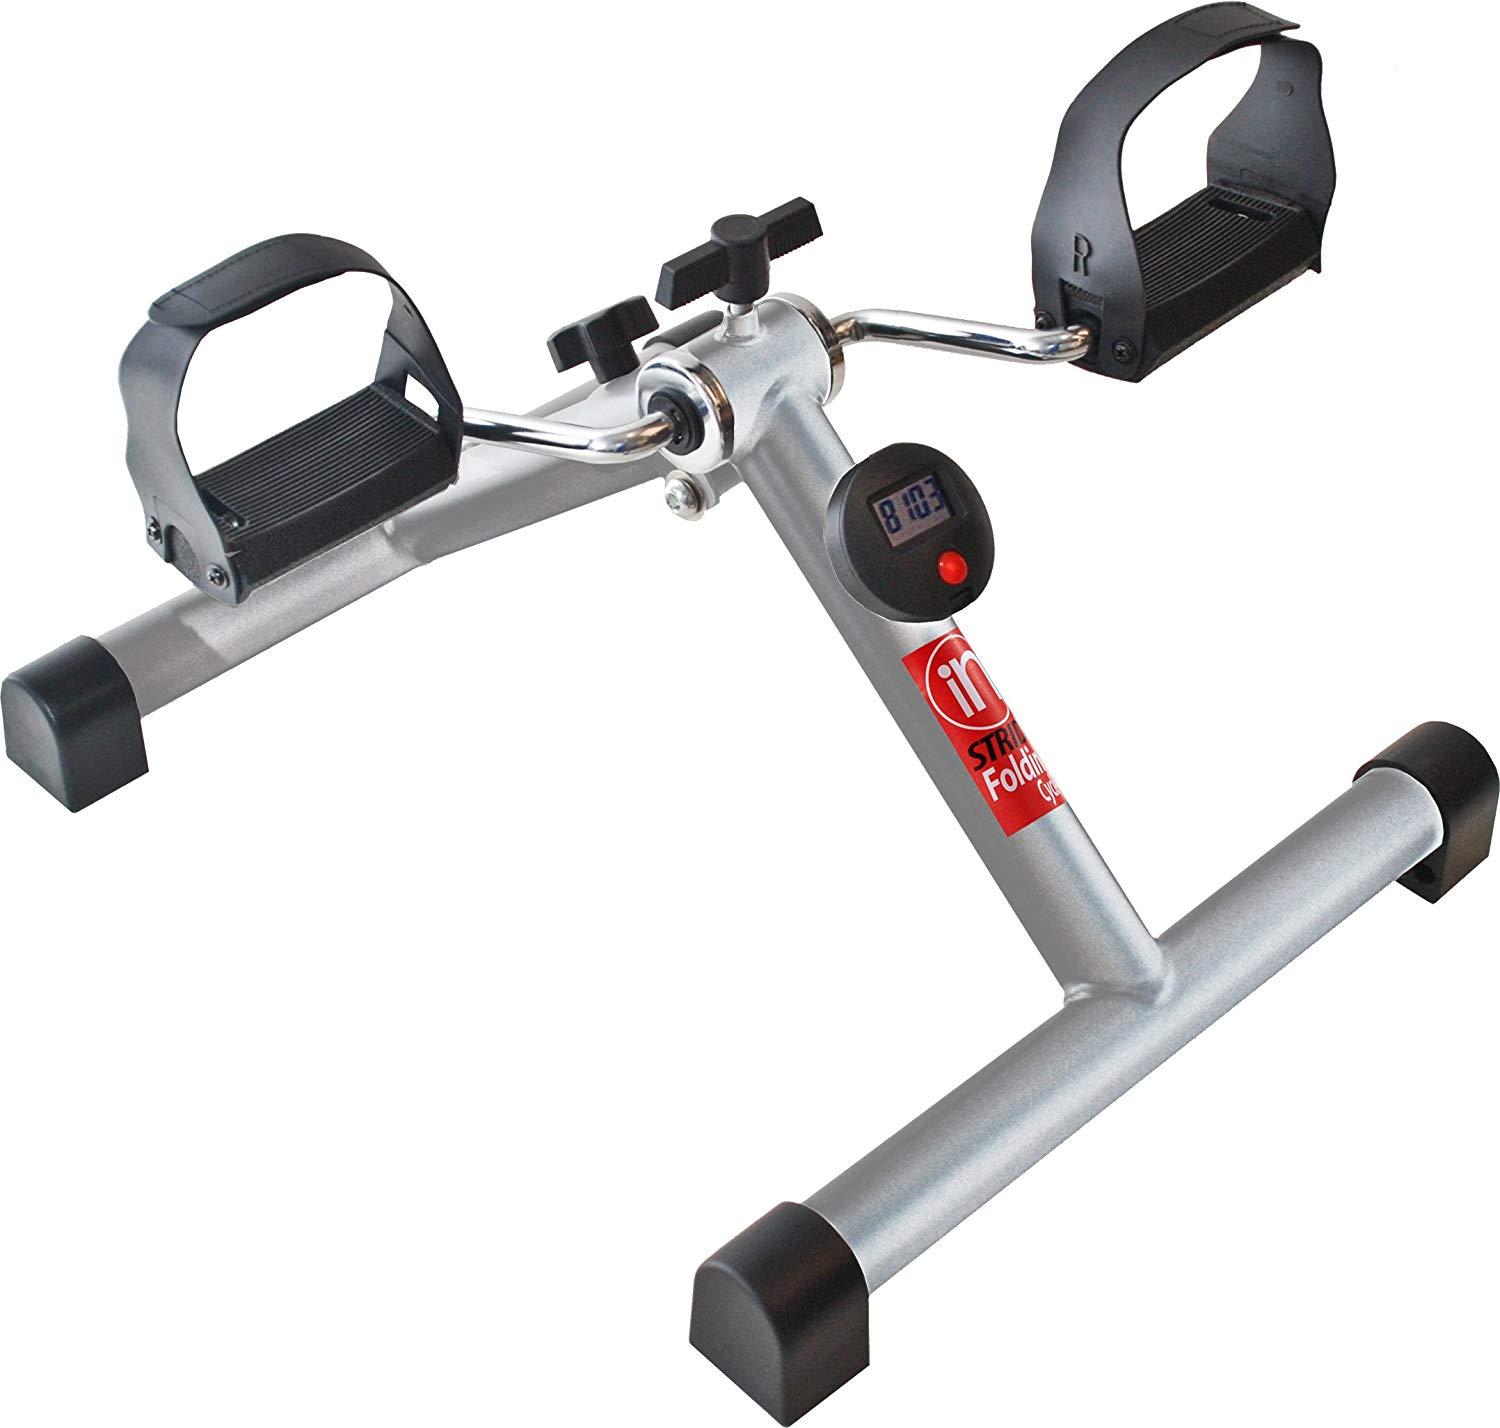gym_bike: (37, 3, 1476, 1405)
